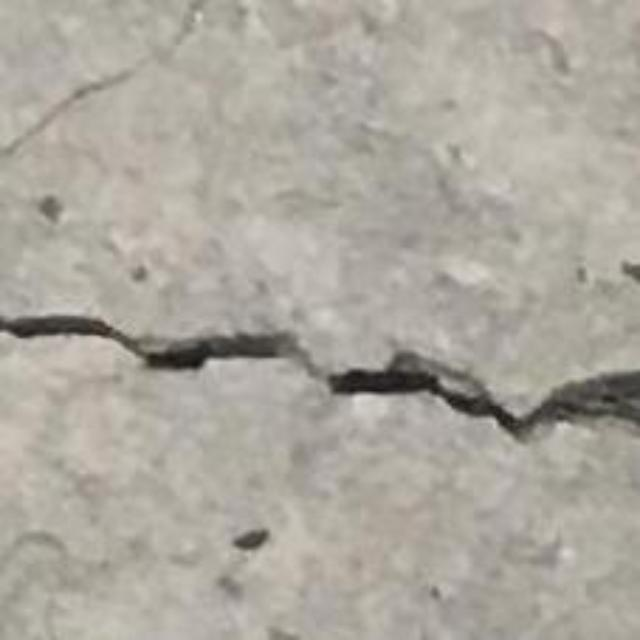crack: (0, 313, 639, 439)
